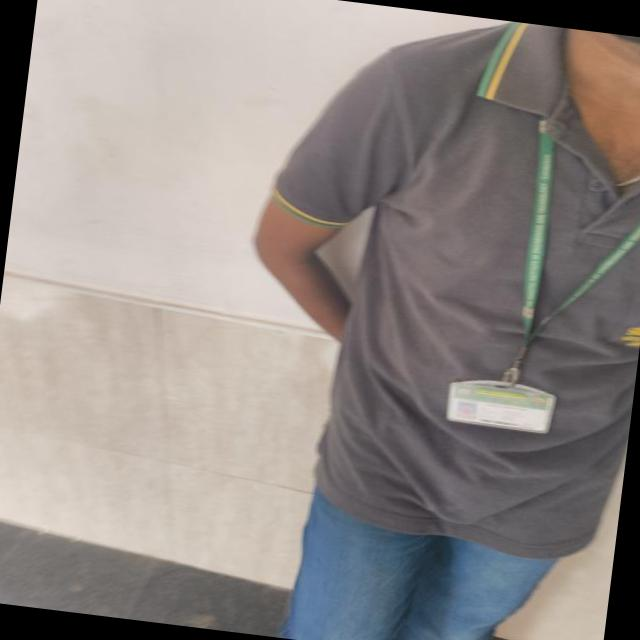id_card: (435, 105, 640, 450)
